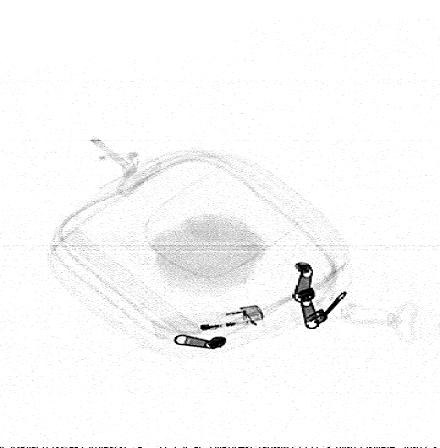Lighter: (150, 304, 265, 340)
